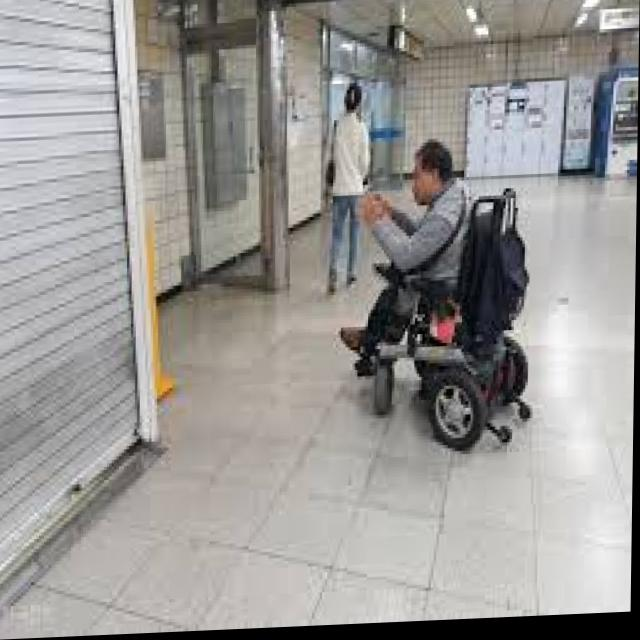wheelchair: (346, 147, 535, 461)
